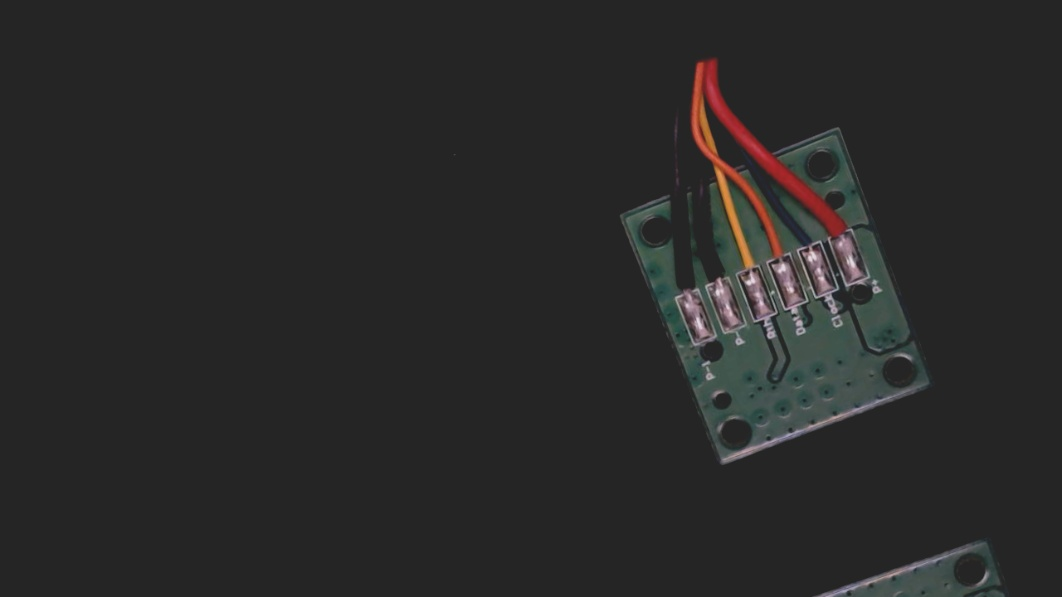Black: (694, 238, 733, 299)
Black1: (664, 257, 704, 311)
Green: (787, 208, 826, 264)
Orange: (756, 220, 795, 275)
Red: (818, 195, 859, 252)
Yellow: (723, 226, 766, 288)
